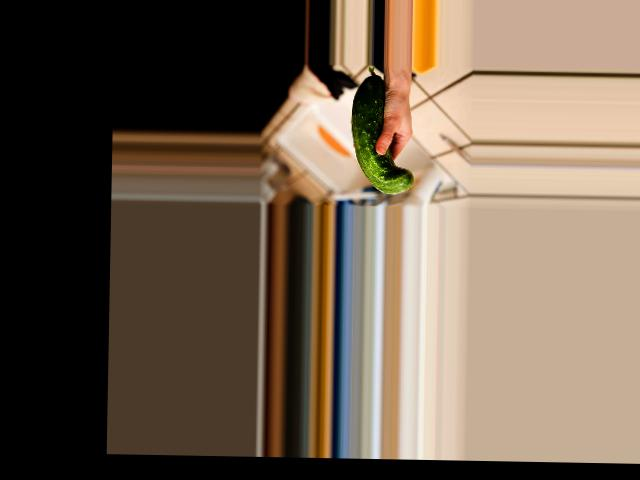cucumber: (349, 66, 415, 194)
